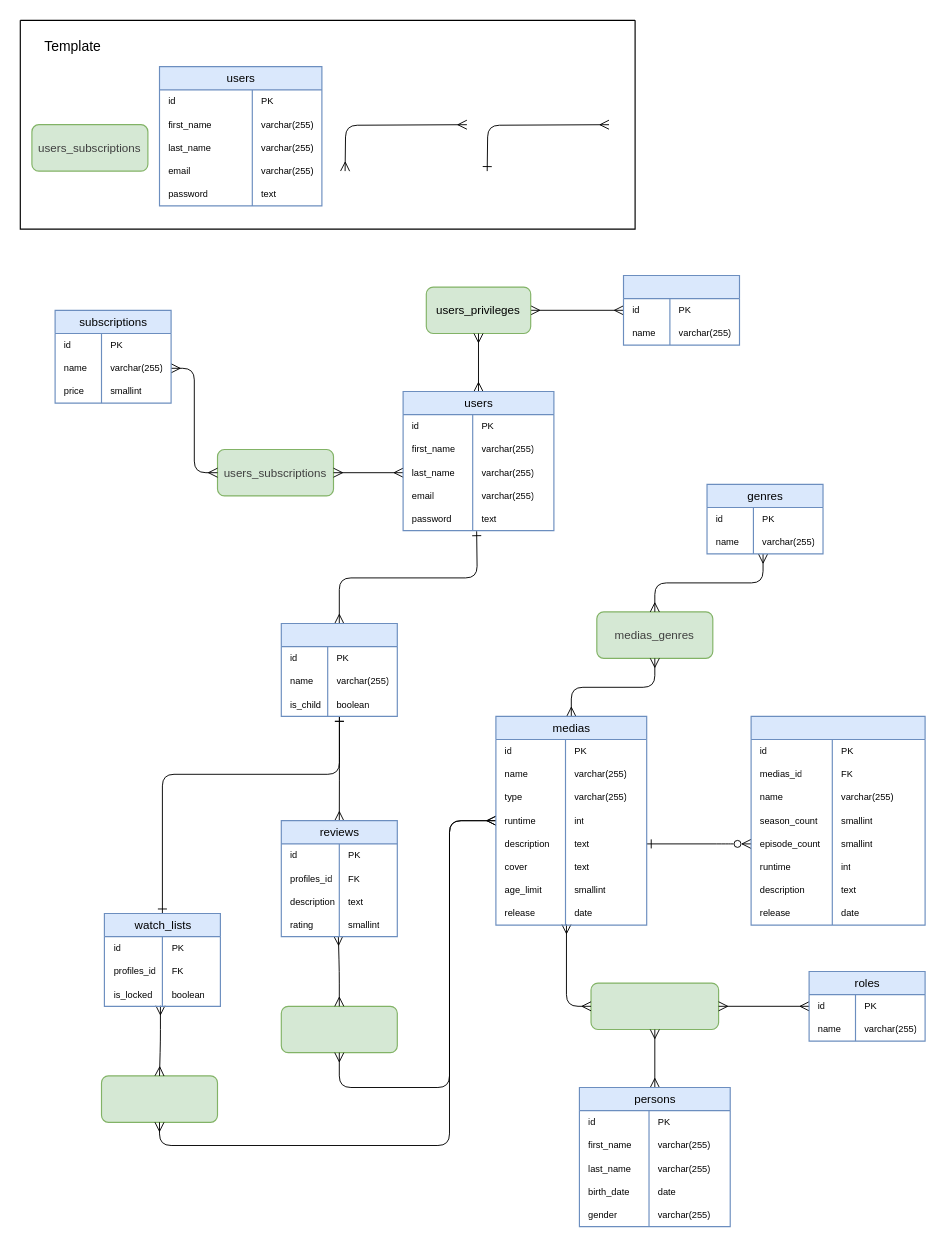
Image size: 945x1247. Some labels were removed from this diagram. Here are the shapes that lost their labels. From the top down, the box of each, then its label:
(622, 274, 740, 345): privileges
(280, 622, 397, 716): profiles
(750, 715, 925, 925): episodes
(590, 982, 719, 1030): medias_persons_roles
(280, 1005, 397, 1053): medias_reviews
(100, 1075, 217, 1122): watch_lists_medias
